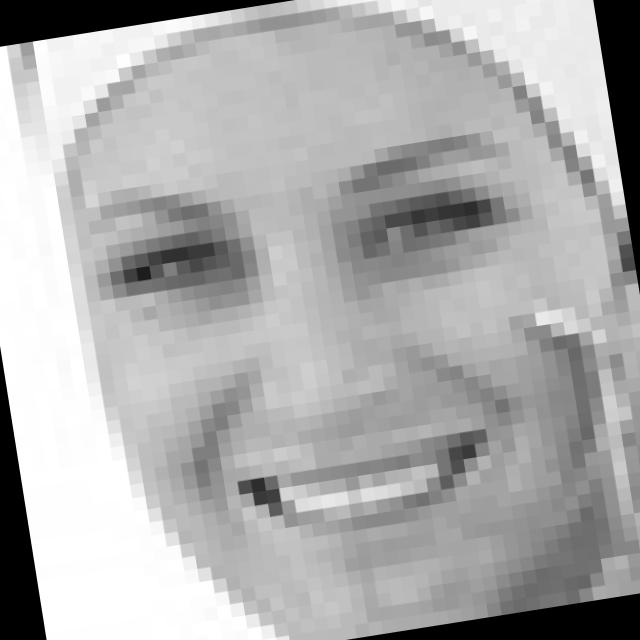happy: (80, 113, 570, 596)
